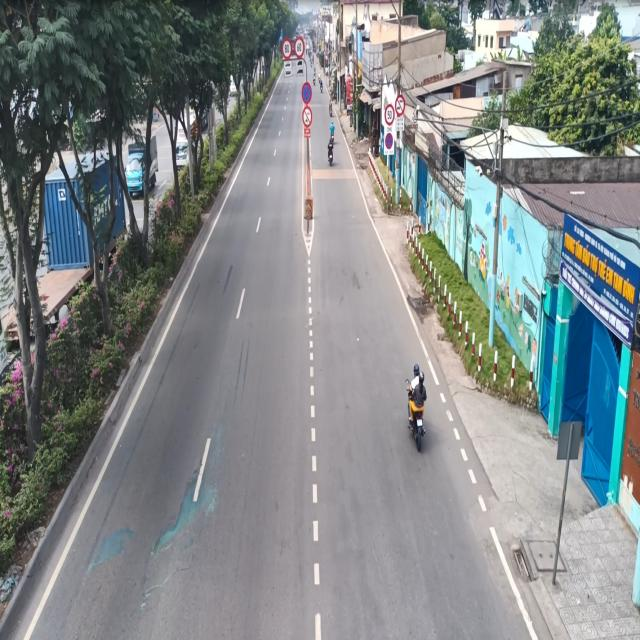motor: (408, 354, 428, 462)
